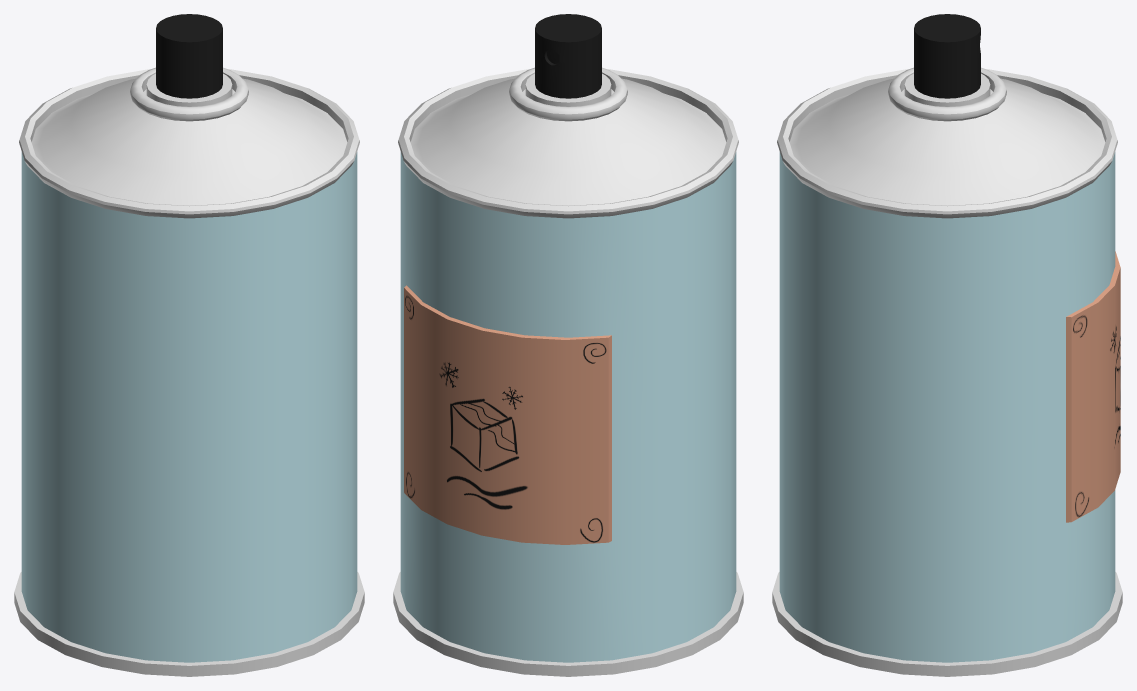
File: sprayBranco.fbx
3 views of the same model, side by side, from view 1: azimuth 30°, elevation 25°; view 2: azimuth 150°, elevation 25°; view 3: azimuth 270°, elevation 25° (orthographic).
Visible parts, largest first — view 1: Spray; view 2: Spray; view 3: Spray.
Boxes of the visible parts, x1=… form: Spray: x1=14, y1=14, x2=364, y2=676; Spray: x1=393, y1=14, x2=743, y2=676; Spray: x1=772, y1=14, x2=1122, y2=676.
Size of the model in its own units: 45.88 by 83.07 by 45.88.
